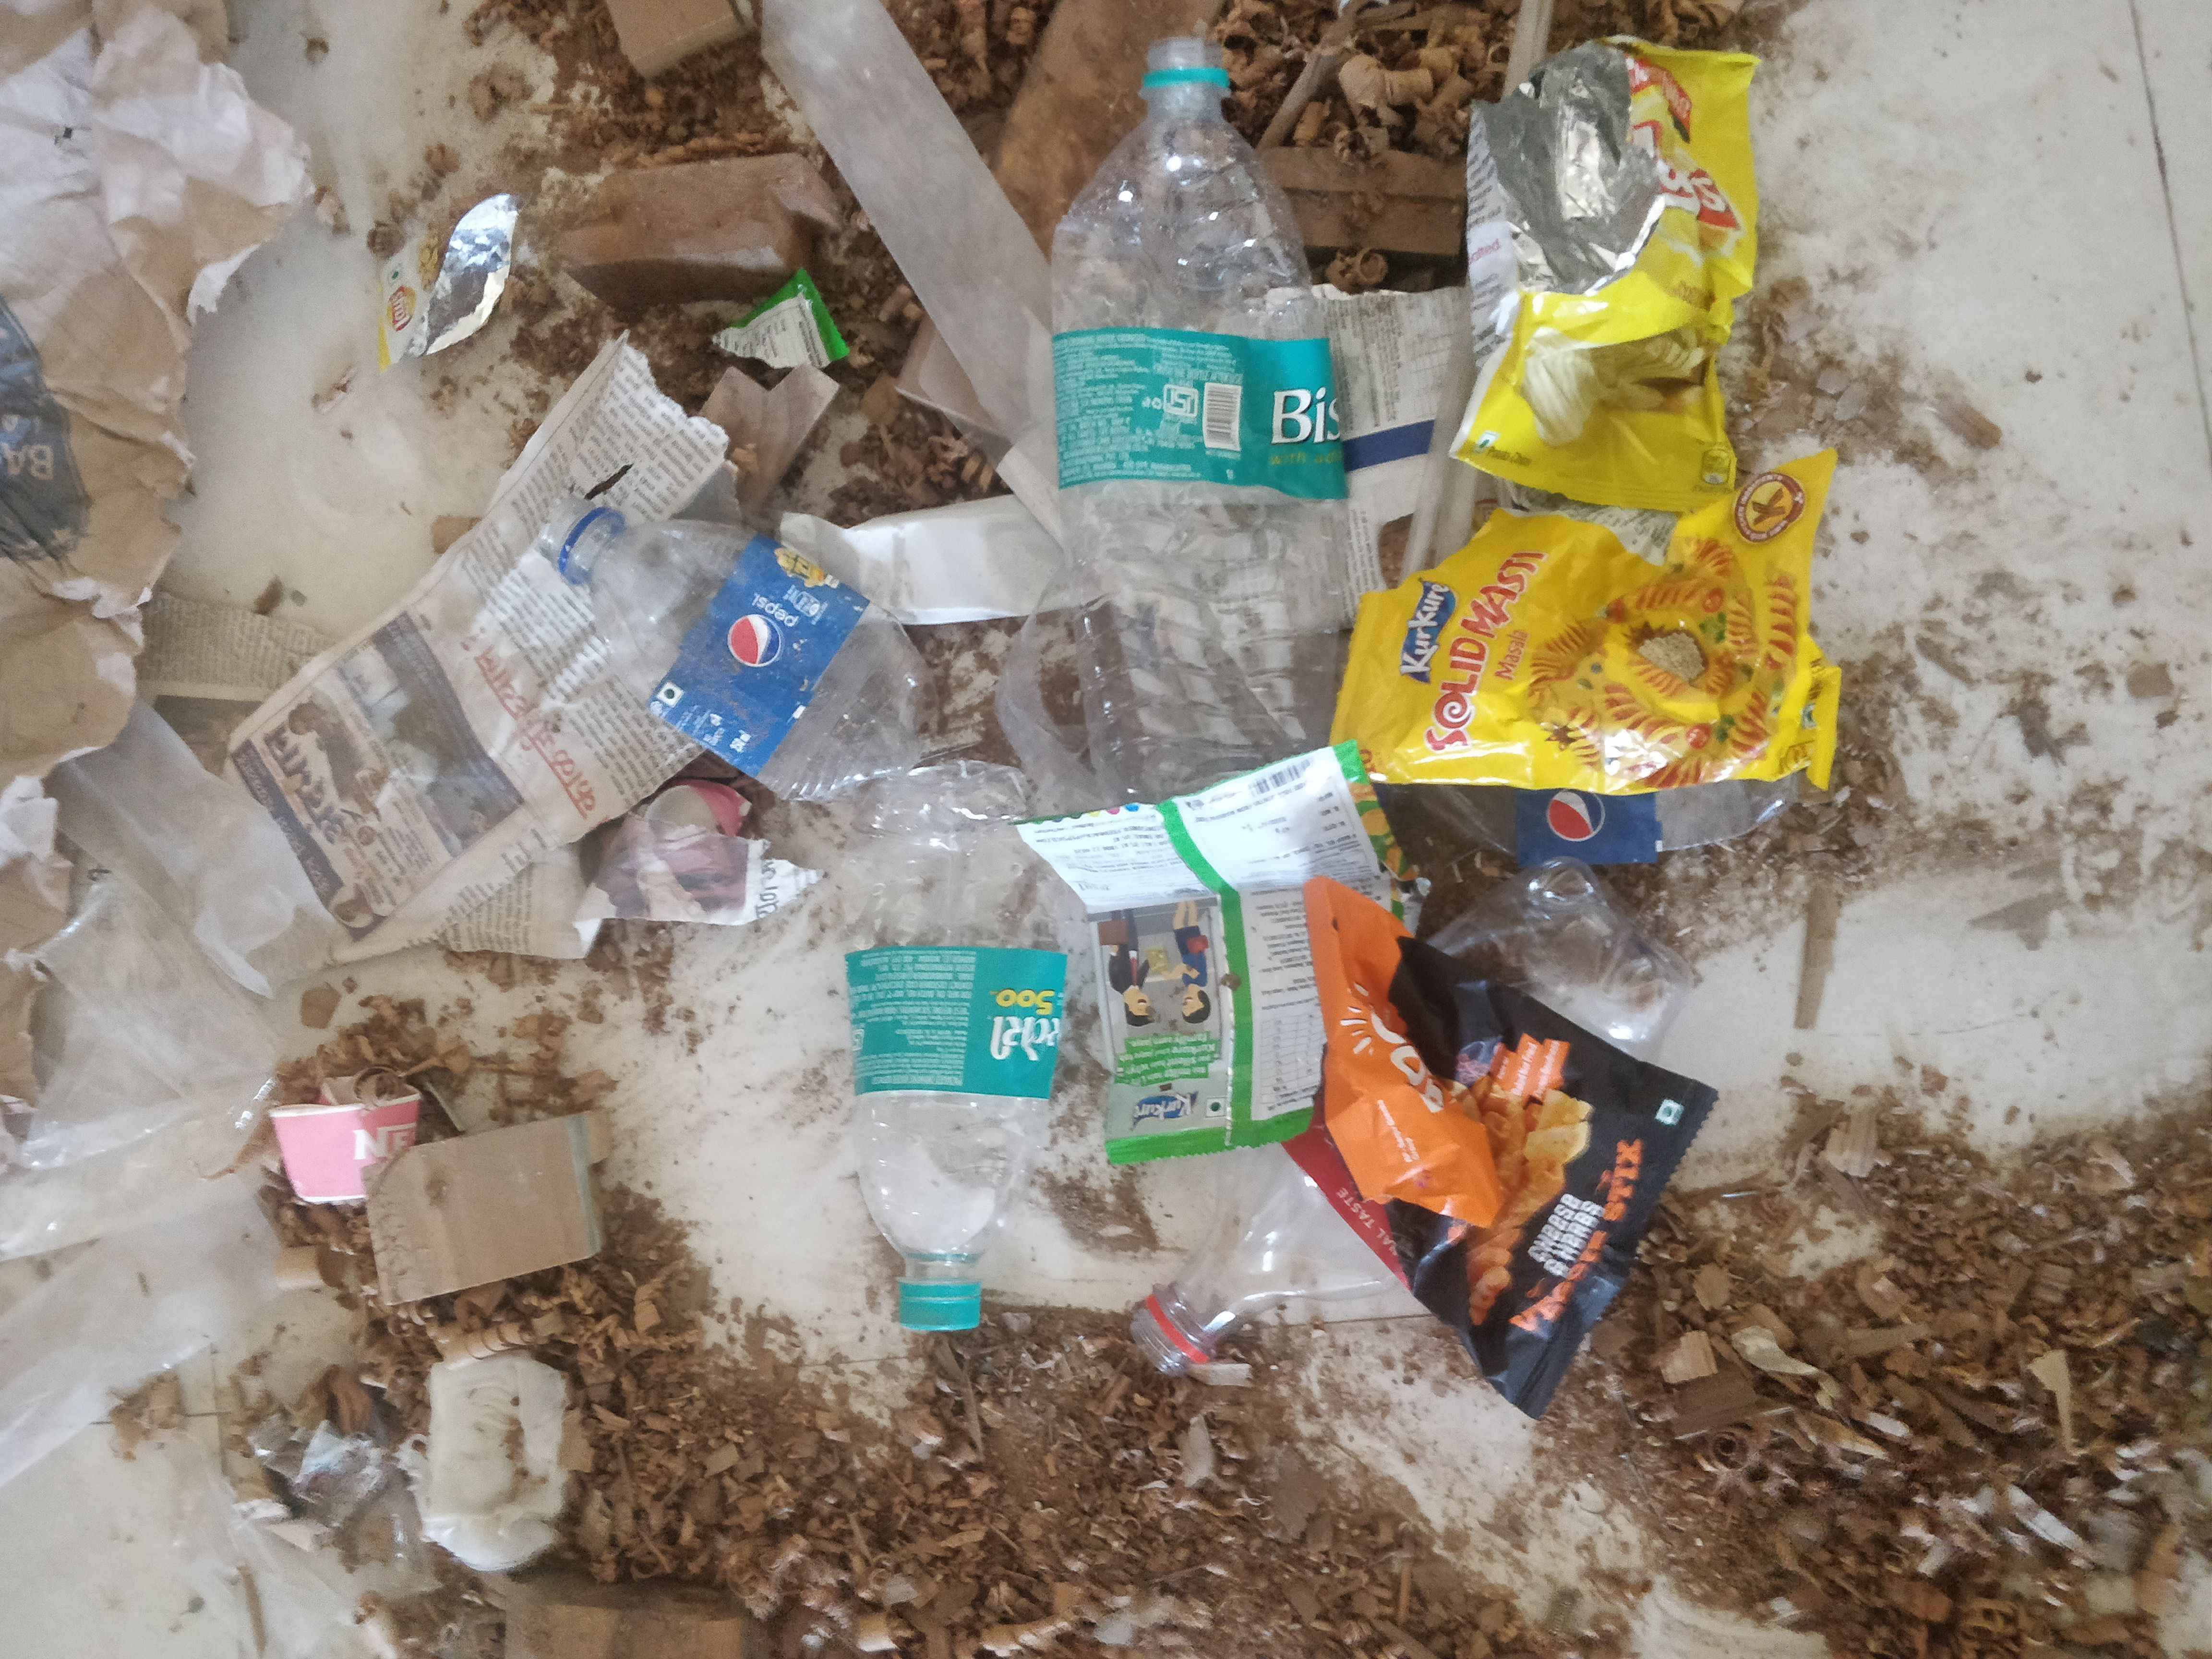Bisleri: (1134, 352, 1364, 458), (960, 972, 1075, 1073)
Lays: (1576, 80, 1752, 288)
kurkure: (1392, 559, 1461, 704), (1122, 1080, 1212, 1148)
pepsi: (697, 552, 853, 716)
tooyumm: (1366, 957, 1460, 1175)
